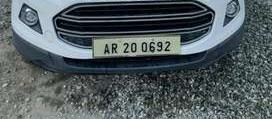AR200692: (93, 35, 180, 56)
